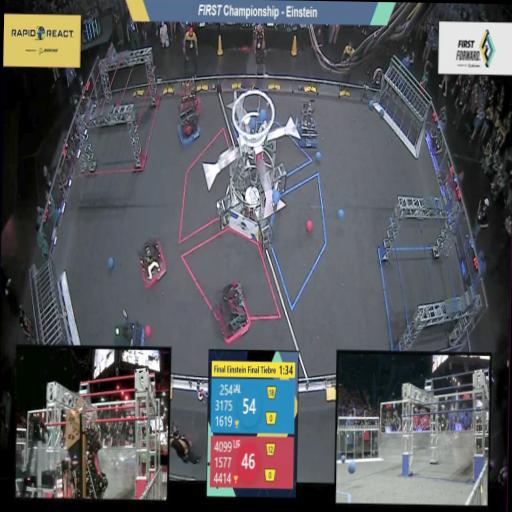robot: (14, 404, 108, 498), (212, 282, 254, 344), (293, 98, 322, 152), (138, 238, 168, 290), (110, 314, 148, 350), (176, 108, 202, 146), (178, 80, 204, 117)
